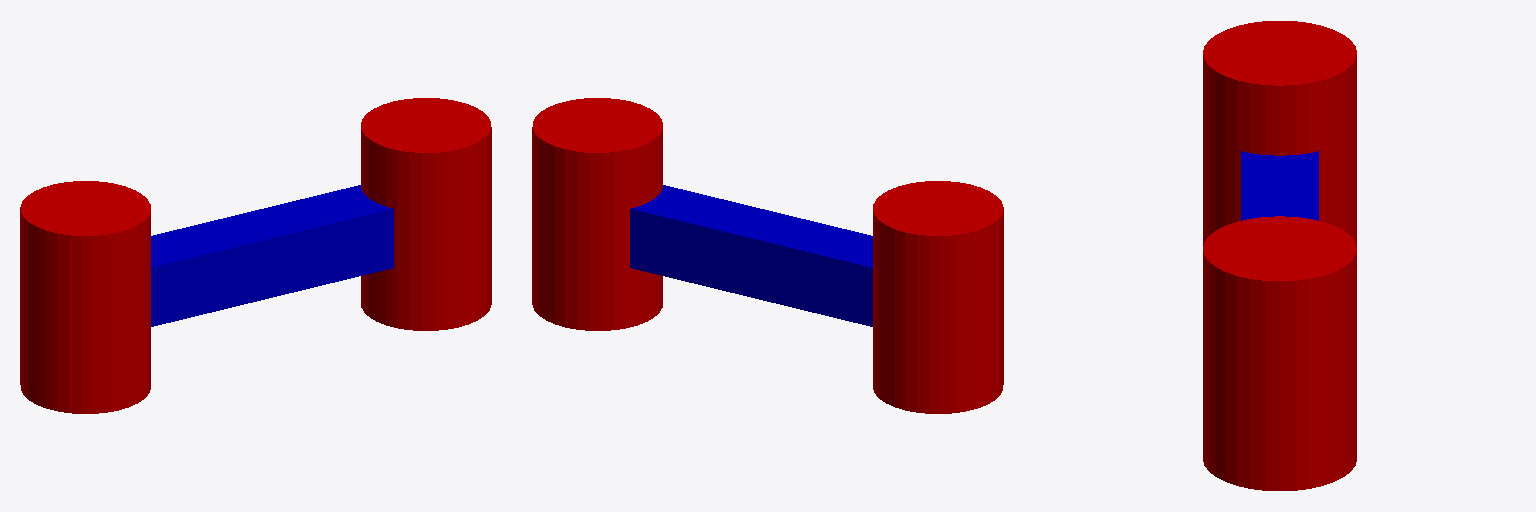
URDF robot description (HextechUAV):
<?xml version="1.0"?>
<robot name="HextechUAV">
    <link name="HextechWorld">
        <inertial>
            <mass value="0"/>
            <inertia ixx="1.0" ixy="0.0" ixz="0.0" iyy="1.0" iyz="0.0" izz="1.0"/>
        </inertial>
    </link>

    <link name="HextechZaxis">
        <inertial>
            <mass value="0.01"/>
            <inertia ixx="1.0" ixy="0.0" ixz="0.0" iyy="1.0" iyz="0.0" izz="1.0"/>
        </inertial>
    </link>

    <joint name="World2Zaxis" type="prismatic">
        <parent link="HextechWorld"/>
        <child link="HextechZaxis"/>
        <axis xyz="0.0 0.0 1.0"/>
        <limit lower="-8.0" upper="8.0" effort="0.0" velocity="100.0"/>
    </joint>

    <link name="HextechXaxis">
        <inertial>
            <mass value="0.01"/>
            <inertia ixx="1.0" ixy="0.0" ixz="0.0" iyy="1.0" iyz="0.0" izz="1.0"/>
        </inertial>
    </link>

    <joint name="Zaxis2Xaxis" type="prismatic">
        <parent link="HextechZaxis"/>
        <child link="HextechXaxis"/>
        <axis xyz="1.0 0.0 0.0"/>
        <limit lower="-18" upper="16" effort="0.0" velocity="100.0"/>
    </joint>

    <link name="UAVbase">
        <inertial>
            <mass value="8.0"/>
            <inertia ixx="0.3" ixy="0.0" ixz="0.0" iyy="0.3" iyz="0.0" izz="0.3"/>
        </inertial>
        <visual>
            <geometry>
                <box size="0.6 0.1 0.1"/>
            </geometry>
            <material name="UAV_blue">
                <color rgba="0.0 0.0 0.8 1.0"/>
            </material>
        </visual>
        <collision>
            <geometry>
                <box size="0.6 0.1 0.1"/>
            </geometry>
        </collision>
    </link>

    <joint name="UAVBase2Zaxis" type="continuous">
        <parent link="HextechXaxis"/>
        <child link="UAVbase"/>
        <axis xyz="0.0 1.0 0.0"/>
    </joint>

    <link name="HextechEngine1">
        <inertial>
            <mass value="1.0"/>
            <inertia ixx="0.1" ixy="0.0" ixz="0.0" iyy="0.1" iyz="0.0" izz="0.1"/>
        </inertial>
        <visual>
            <geometry>
                <cylinder radius="0.1" length="0.3"/>
            </geometry>
            <material name="UAV_red">
                <color rgba="0.8 0.0 0.0 1.0"/>
            </material>
        </visual>
        <collision>
            <geometry>
                <cylinder radius="0.1" length="0.3"/>
            </geometry>
        </collision>
    </link>

    <joint name="base2Engine1" type="fixed">
        <origin xyz="0.3 0.0 0.0" rpy="0.0 0.0 0.0"/>
        <parent link="UAVbase"/>
        <child link="HextechEngine1"/>
    </joint>

    <link name="HextechEngine2">
        <inertial>
            <mass value="1.0"/>
            <inertia ixx="0.1" ixy="0.0" ixz="0.0" iyy="0.1" iyz="0.0" izz="0.1"/>
        </inertial>
        <visual>
            <geometry>
                <cylinder radius="0.1" length="0.3"/>
            </geometry>
            <material name="UAV_red">
                <color rgba="0.8 0.0 0.0 1.0"/>
            </material>
        </visual>
        <collision>
            <geometry>
                <cylinder radius="0.1" length="0.3"/>
            </geometry>
        </collision>
    </link>

    <joint name="base2Engine2" type="fixed">
        <origin xyz="-0.3 0.0 0.0" rpy="0.0 0.0 0.0"/>
        <parent link="UAVbase"/>
        <child link="HextechEngine2"/>
    </joint>

</robot>

--- Facts derived from the render (not from the file) ---
Views: 3 orthographic renders of the robot side by side, from view 1: azimuth 30°, elevation 25°; view 2: azimuth 150°, elevation 25°; view 3: azimuth 270°, elevation 25°.
Model HextechUAV with 6 links and 5 joints (1 continuous, 2 prismatic, 2 fixed), rooted at HextechWorld, posed all joints at 0.
Links seen in each view (by area): view 1: HextechEngine2, HextechEngine1, UAVbase; view 2: HextechEngine2, HextechEngine1, UAVbase; view 3: HextechEngine1, HextechEngine2, UAVbase.
Boxes of the visible links, box(x1,y1,x2,y2) form: HextechEngine2: box(20, 181, 150, 413); HextechEngine1: box(361, 98, 491, 330); UAVbase: box(151, 185, 393, 326); HextechEngine2: box(873, 181, 1003, 413); HextechEngine1: box(532, 98, 662, 330); UAVbase: box(630, 185, 872, 326); HextechEngine1: box(1203, 216, 1356, 490); HextechEngine2: box(1203, 21, 1356, 245); UAVbase: box(1241, 151, 1318, 220).
Size in the robot's own frame: 0.8 by 0.2 by 0.3 metres.
Geometry: primitives only (box / cylinder / sphere), no mesh files.